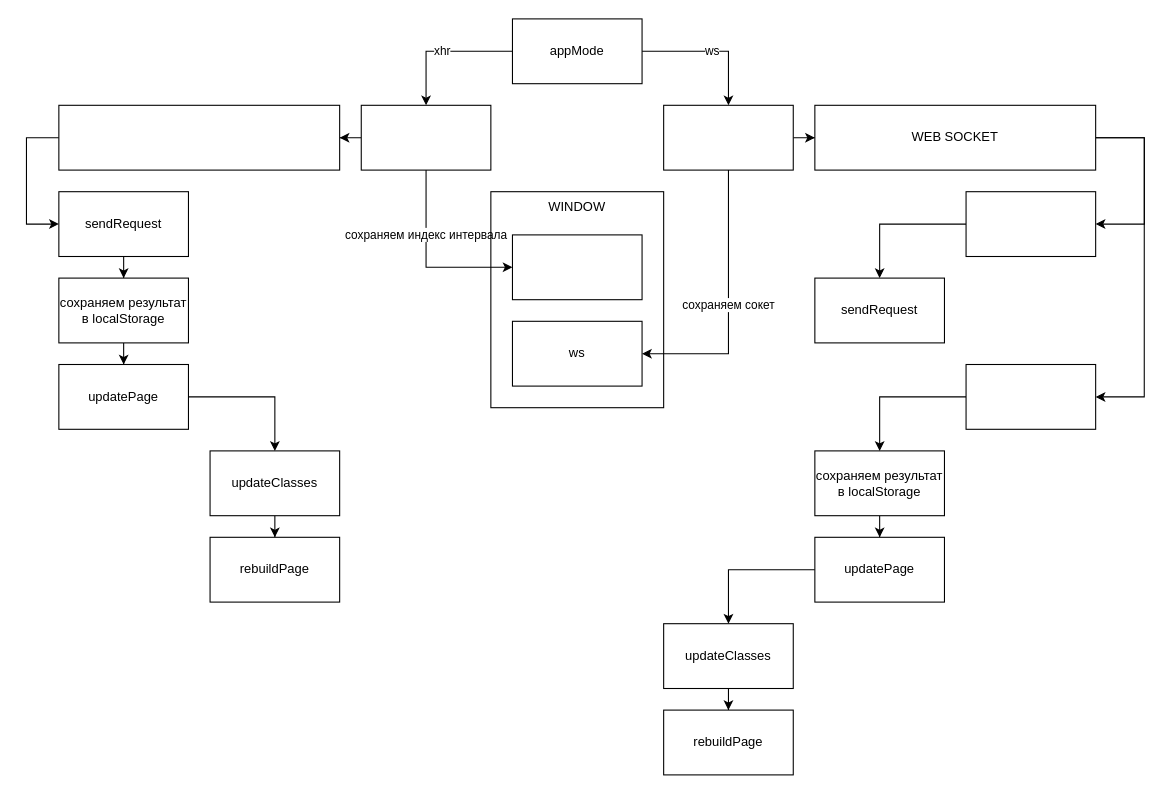
The diagram is 1173 pixels wide and 794 high, and some of its shapes have lost their labels. The centre of each missing label's shape, as x and y in pixels:
"CALL STACK" goes at [199,137].
"onmessage" goes at [1030,396].
"onopen" goes at [1030,223].
"pageAutoUpdate" goes at [576,267].
"открываем сокет" goes at [728,137].
"регистрируем updatePage раз в 5 сек" goes at [425,137].
